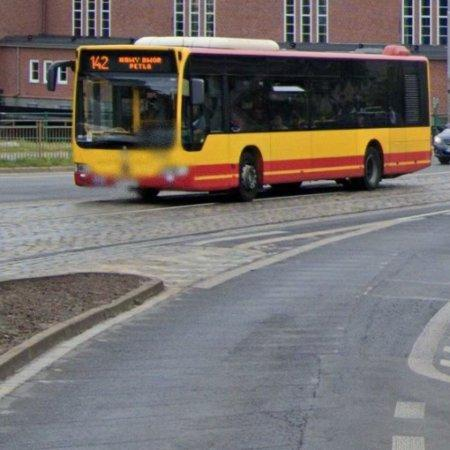buses: (47, 37, 431, 199)
